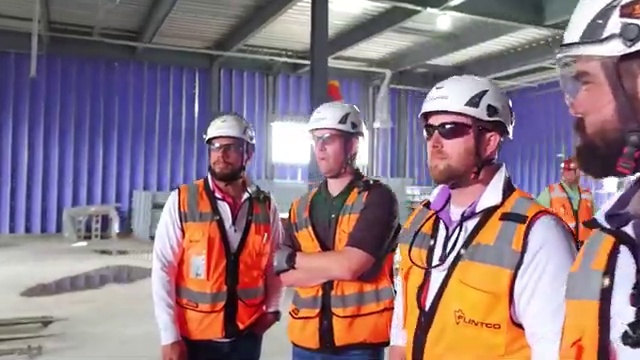helmet: (417, 65, 524, 143), (558, 1, 638, 67), (302, 94, 373, 141), (201, 109, 259, 151)
jacket: (402, 182, 545, 360), (286, 182, 392, 352), (167, 180, 278, 339), (556, 227, 640, 360), (553, 181, 595, 231)
